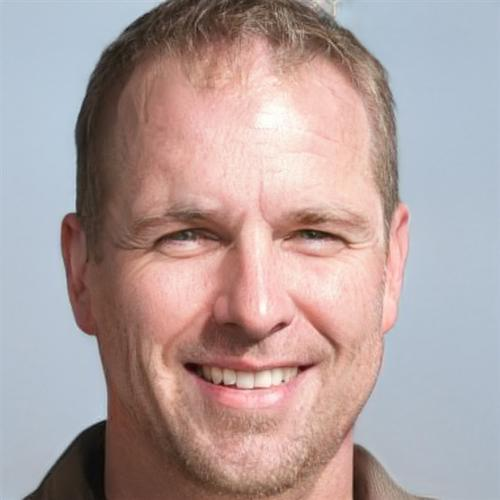no_mask: (77, 31, 396, 497)
